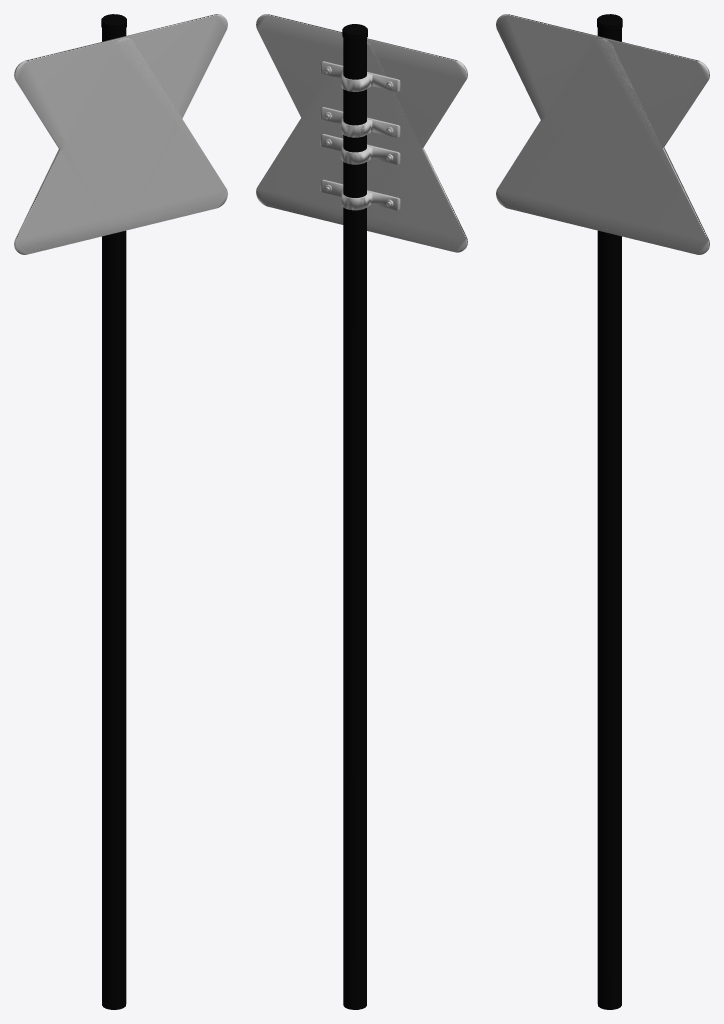
The model's file is schilder_4k_0002.fbx.
3 views of the same model, side by side, from view 1: azimuth 30°, elevation 25°; view 2: azimuth 150°, elevation 25°; view 3: azimuth 330°, elevation 25° (orthographic).
Parts seen in each view (by area): view 1: schild_0002_baustelle_b, schild_0002_vorfahrt_achten_a, schild_0002_fahrbahnverengung_links, schild_0002_strassenbahn, schild_0002_wildwechsel, schild_0002_fahrbahnverengung_rechts, schild_0002_bodenwellen, schild_0002_ampel, schild_0002_linkskurve; view 2: schild_0002_baustelle_b, schild_0002_fahrbahnverengung_links, schild_0002_vorfahrt_achten_a; view 3: schild_0002_baustelle_b, schild_0002_wildwechsel, schild_0002_vorfahrt_achten_a, schild_0002_fahrbahnverengung_links, schild_0002_strassenbahn, schild_0002_fahrbahnverengung_rechts, schild_0002_ampel, schild_0002_bodenwellen, schild_0002_baustelle_a, schild_0002_baustelle_c.
Part boxes in pixels (x1,y1,x2,y2): schild_0002_baustelle_b: (14, 14, 227, 1009); schild_0002_vorfahrt_achten_a: (14, 14, 227, 228); schild_0002_fahrbahnverengung_links: (15, 14, 227, 1009); schild_0002_strassenbahn: (14, 38, 226, 254); schild_0002_wildwechsel: (16, 40, 227, 254); schild_0002_fahrbahnverengung_rechts: (14, 40, 227, 254); schild_0002_bodenwellen: (16, 40, 223, 254); schild_0002_ampel: (15, 40, 217, 253); schild_0002_linkskurve: (16, 14, 207, 252); schild_0002_baustelle_b: (256, 24, 466, 1009); schild_0002_fahrbahnverengung_links: (257, 24, 466, 1009); schild_0002_vorfahrt_achten_a: (256, 14, 467, 227); schild_0002_baustelle_b: (496, 14, 707, 1009); schild_0002_wildwechsel: (496, 39, 708, 254); schild_0002_vorfahrt_achten_a: (496, 14, 709, 229); schild_0002_fahrbahnverengung_links: (496, 14, 709, 1009); schild_0002_strassenbahn: (496, 39, 708, 254); schild_0002_fahrbahnverengung_rechts: (497, 41, 708, 252); schild_0002_ampel: (497, 41, 703, 252); schild_0002_bodenwellen: (499, 40, 707, 254); schild_0002_baustelle_a: (499, 39, 707, 254); schild_0002_baustelle_c: (502, 42, 706, 253).
Size of the model in its own units: 72.84 by 323 by 8.68.
